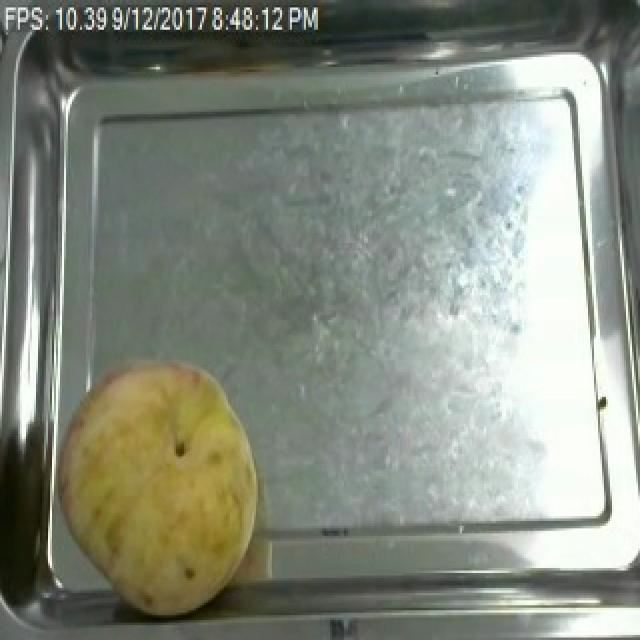Fruit: (44, 347, 268, 625)
